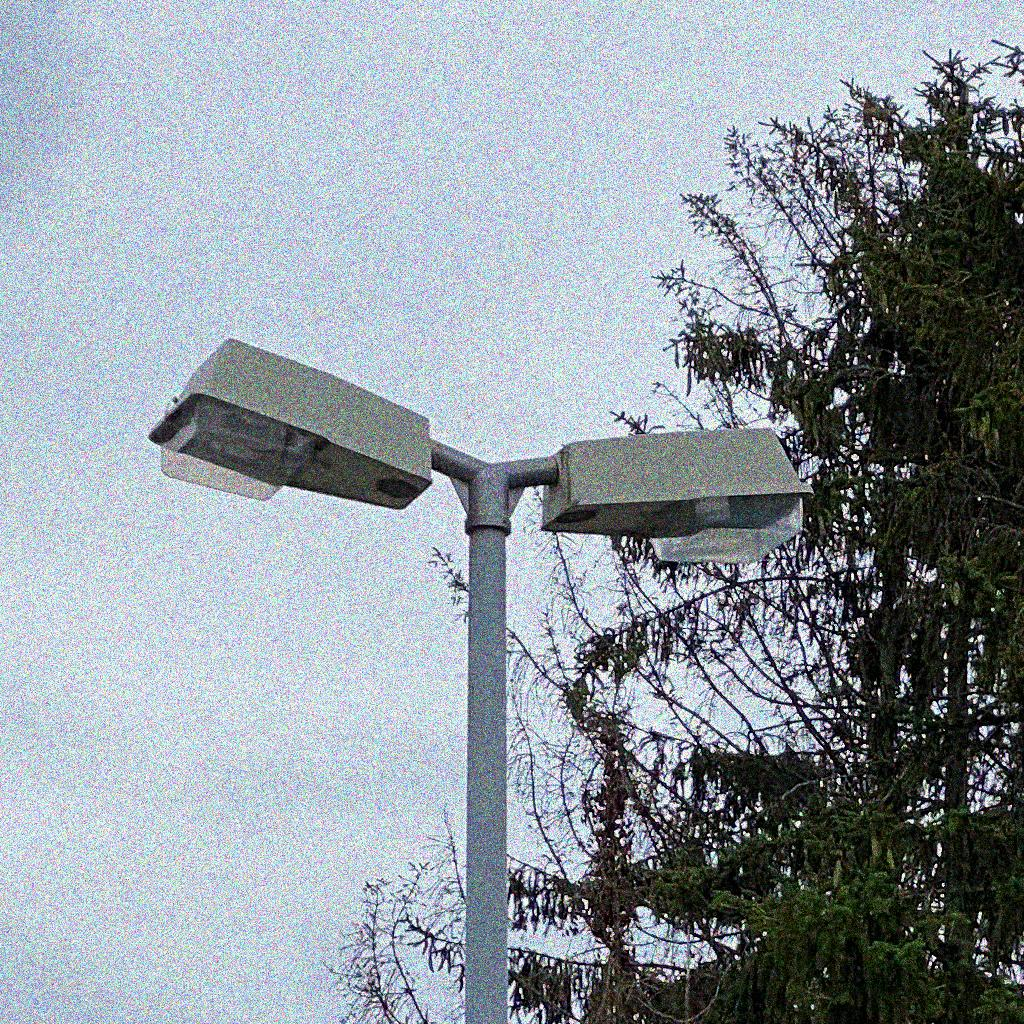tree: (565, 39, 1024, 1023), (322, 702, 790, 1023)
